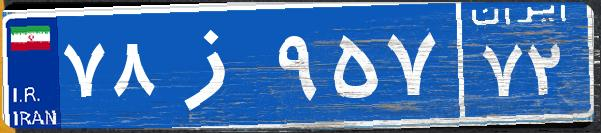2: (525, 38, 570, 115)
5: (330, 28, 385, 110)
7: (385, 28, 445, 110), (57, 26, 110, 107), (475, 38, 525, 113)
8: (110, 28, 158, 105)
9: (273, 28, 330, 110)
ز: (158, 15, 273, 115)
